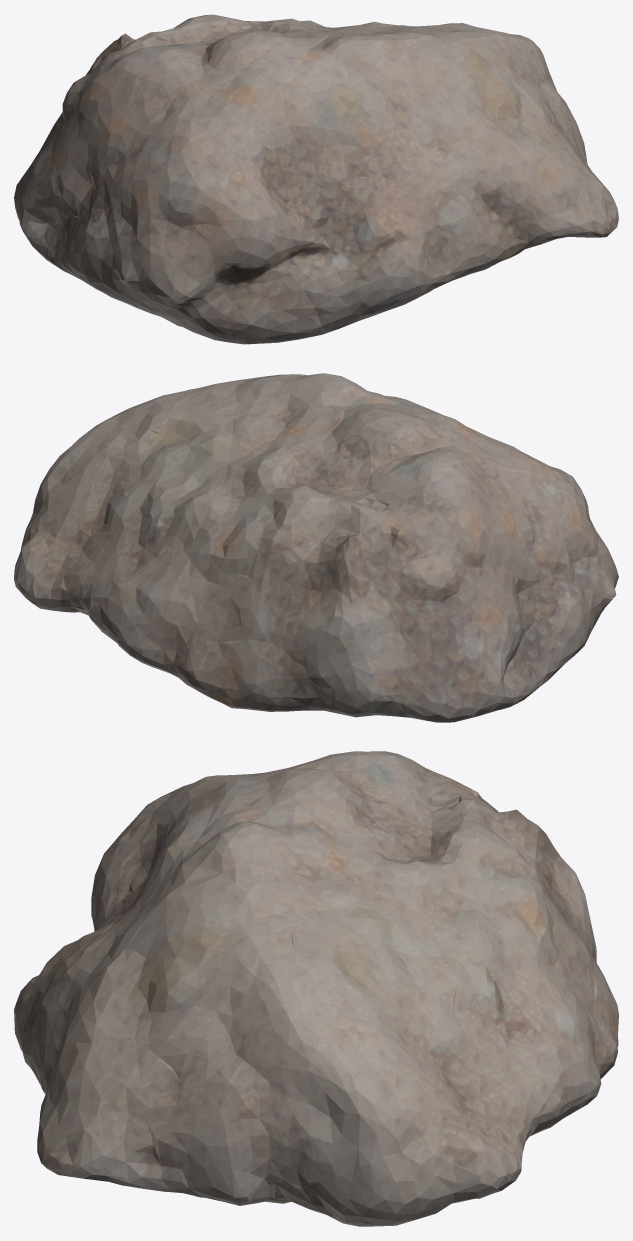
The model's file is rock1.glb.
3 renders of one model, top to bottom at view 1: azimuth 30°, elevation 25°; view 2: azimuth 150°, elevation 25°; view 3: azimuth 270°, elevation 25°, orthographic. The views are drawn at different scales.
Parts seen in each view (by area): view 1: world; view 2: world; view 3: world.
Part boxes in pixels (<box>): world: <box>14,14,618,344</box>; world: <box>14,373,618,722</box>; world: <box>14,751,618,1226</box>.
Bounding box in the file's own units: 0.5618 × 0.2595 × 0.4648.
1 material, 1 textured.
